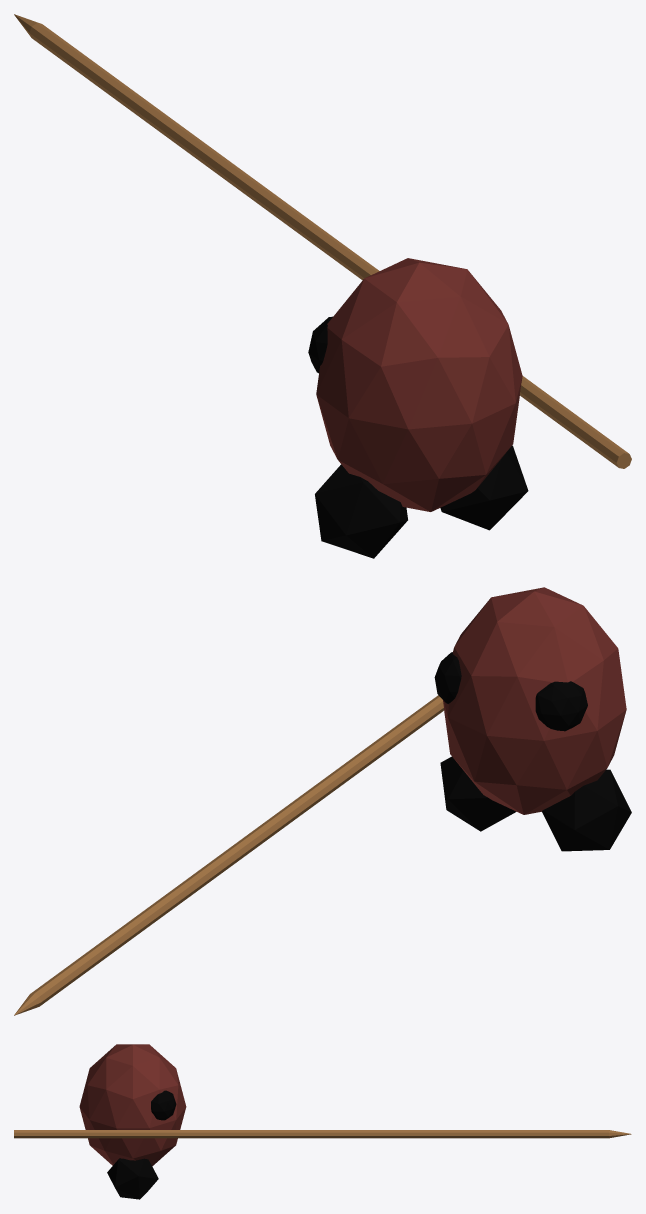
Rendered from stab.f0004.glb.
3 views of the same model, one above another, from view 1: azimuth 30°, elevation 25°; view 2: azimuth 150°, elevation 25°; view 3: azimuth 270°, elevation 25° (orthographic). The views are drawn at different scales.
Visible parts, largest first — view 1: Body.001; view 2: Body.001; view 3: Body.001.
Boxes of the visible parts, left/top/right/bottom form: Body.001: left=14, top=14, right=631, bottom=558; Body.001: left=14, top=587, right=631, bottom=1015; Body.001: left=14, top=1044, right=631, bottom=1199.
Size of the model in its own units: 2.17 by 2.85 by 11.56.
1 material, 1 textured.
